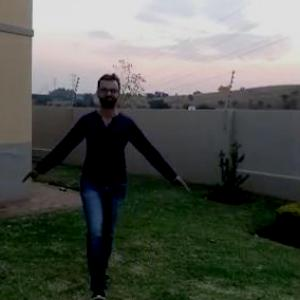land: (48, 84, 158, 274)
